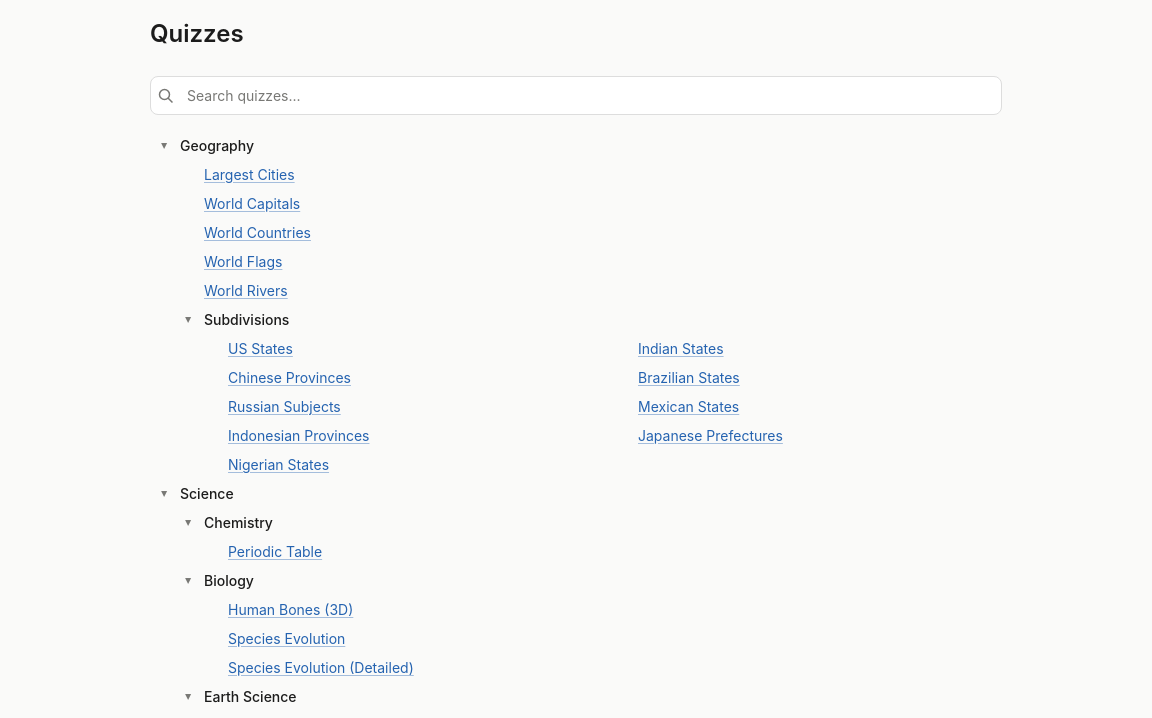
Test: HomePage › filters the tree when search has 3+ characters
Type "periodic" into the field labelled "Search quizzes".
click(576, 96); type("periodic")  # box [150,76,1002,115]
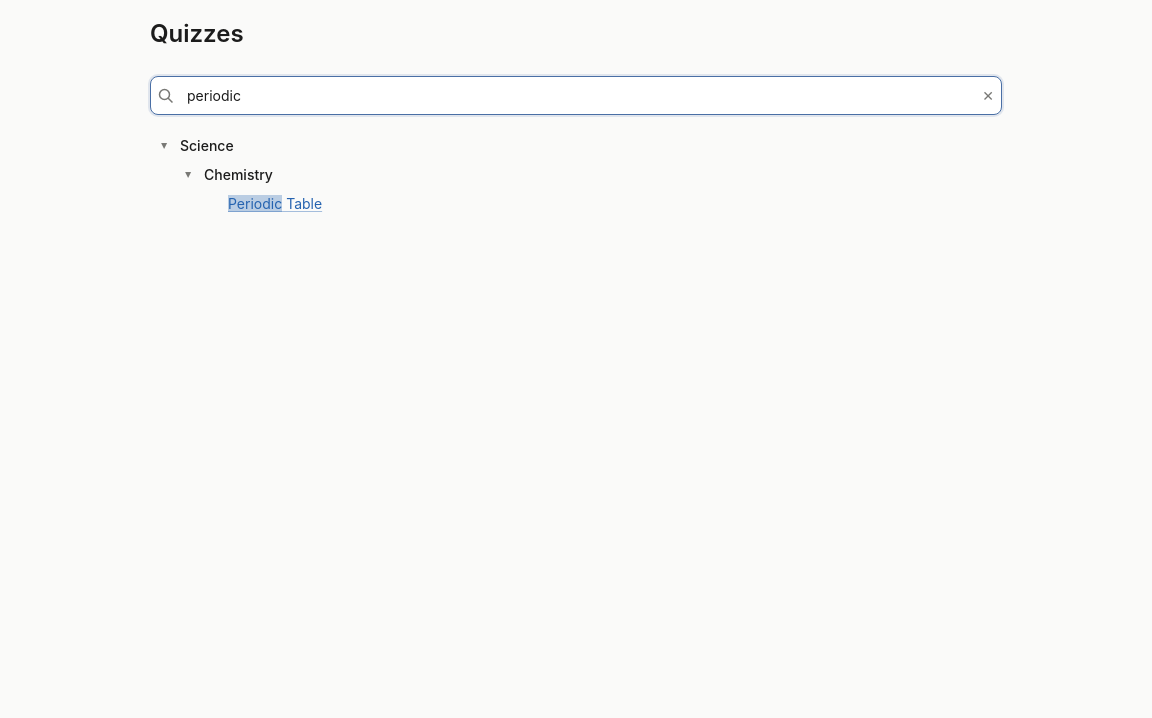
Check: the link "Periodic Table" is shown, box [228,195,322,212]
Check: the link "World Rivers" is gone
